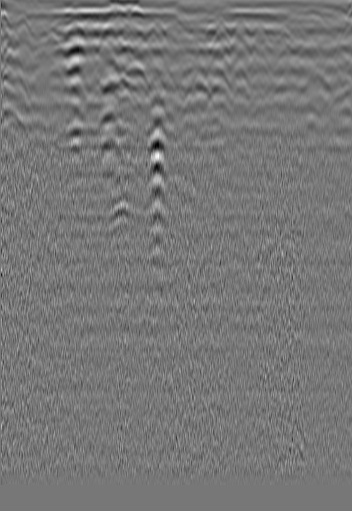가스: (101, 195, 139, 229)
상수: (37, 22, 69, 49)
오수: (316, 29, 347, 54)
우수: (165, 15, 199, 45)
